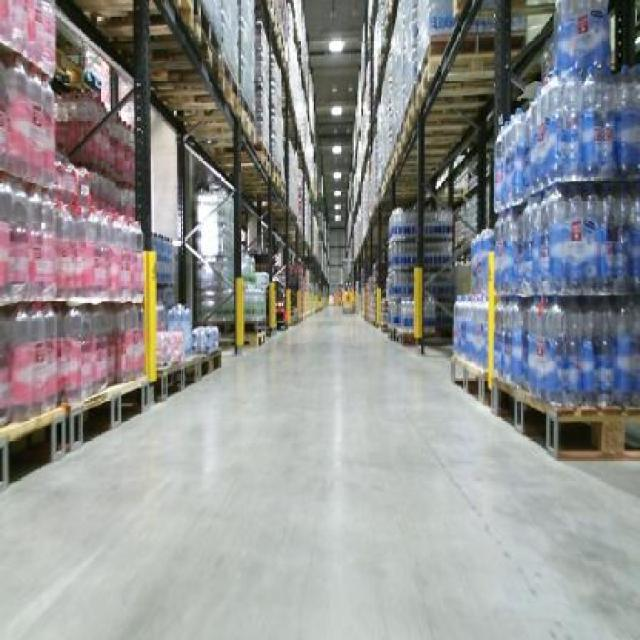pallet: (441, 338, 640, 473), (378, 28, 513, 196), (239, 325, 270, 358)
